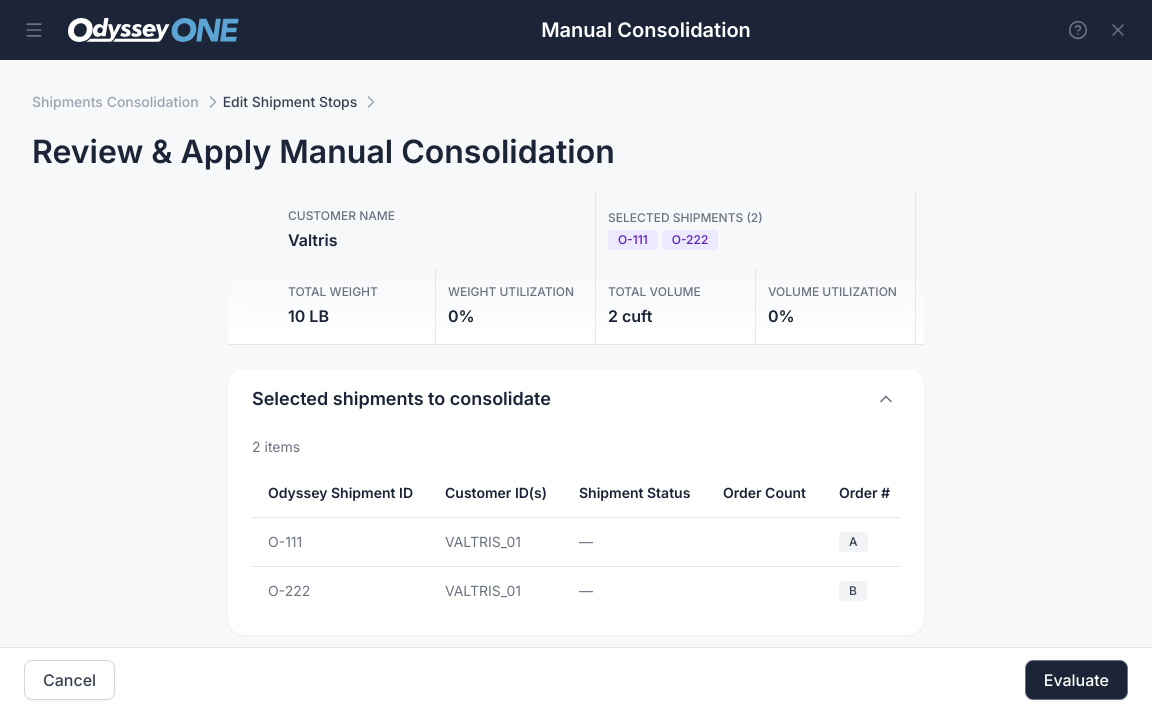
ConsolidateStopsRoute › the routing Apply is disabled while the async tender check runs (no double roll)
The image size is (1152, 720).
Click the button "Evaluate" at (1076, 680), box [1025, 660, 1128, 700]
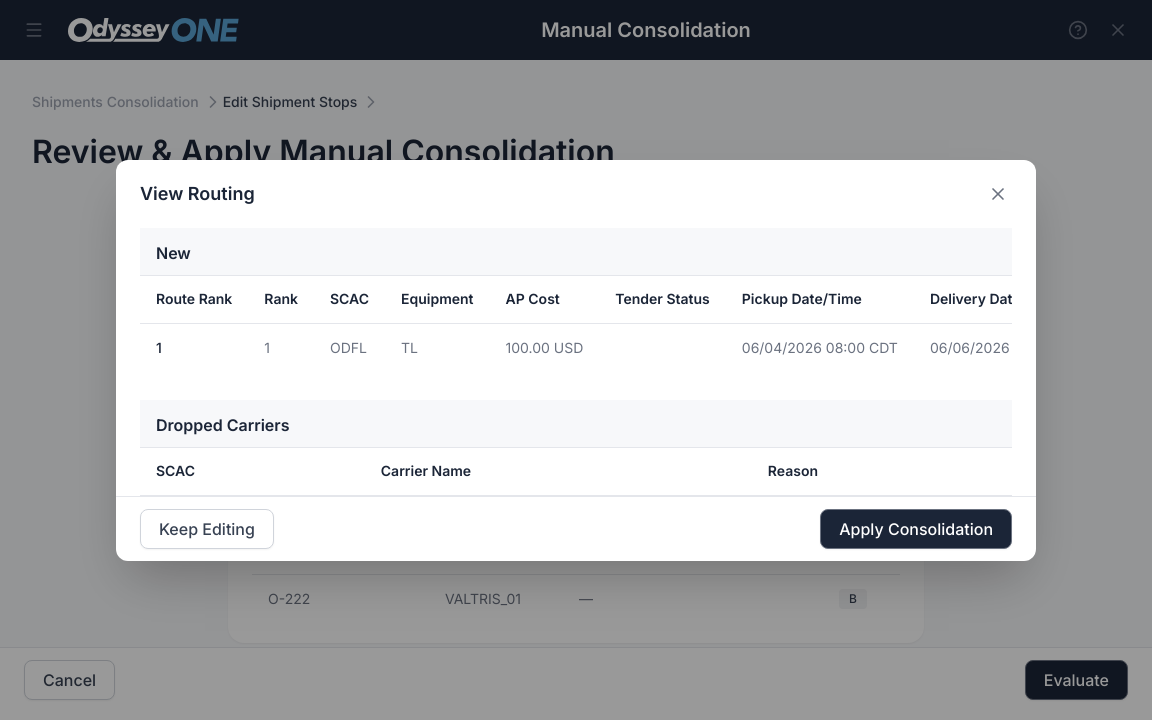
Click the button "Apply Consolidation" at (916, 528), box [820, 508, 1012, 548]
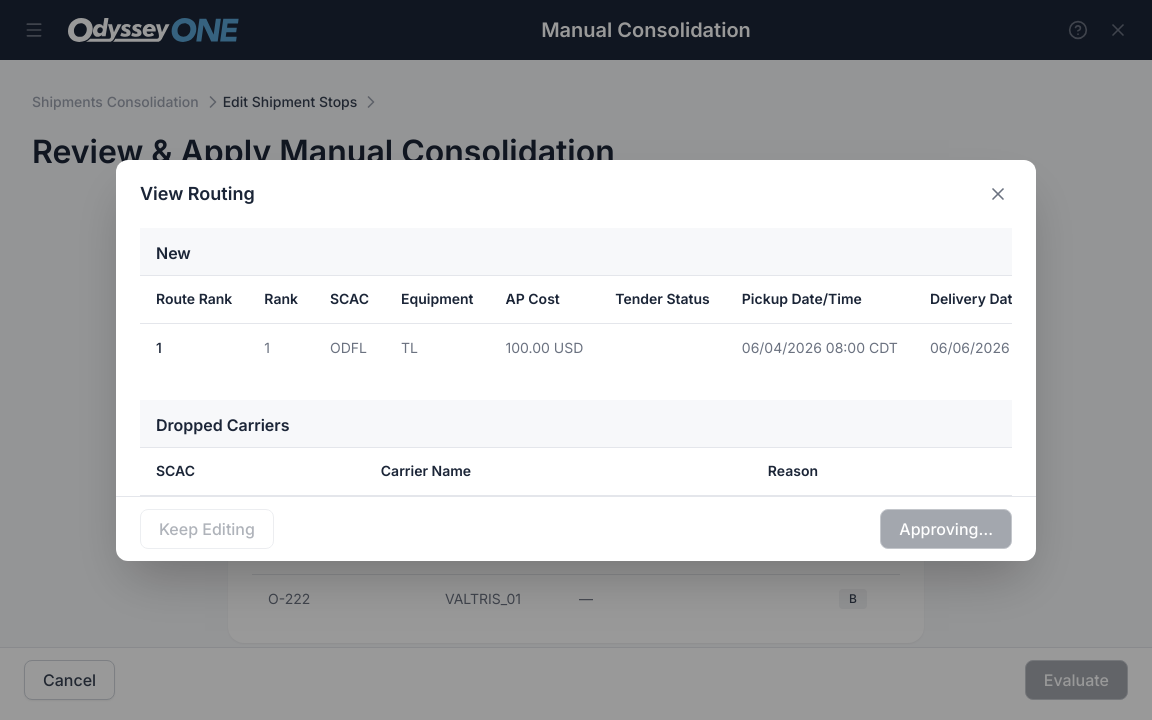
Check: the button "Approving…" is disabled, box [880, 508, 1012, 548]
